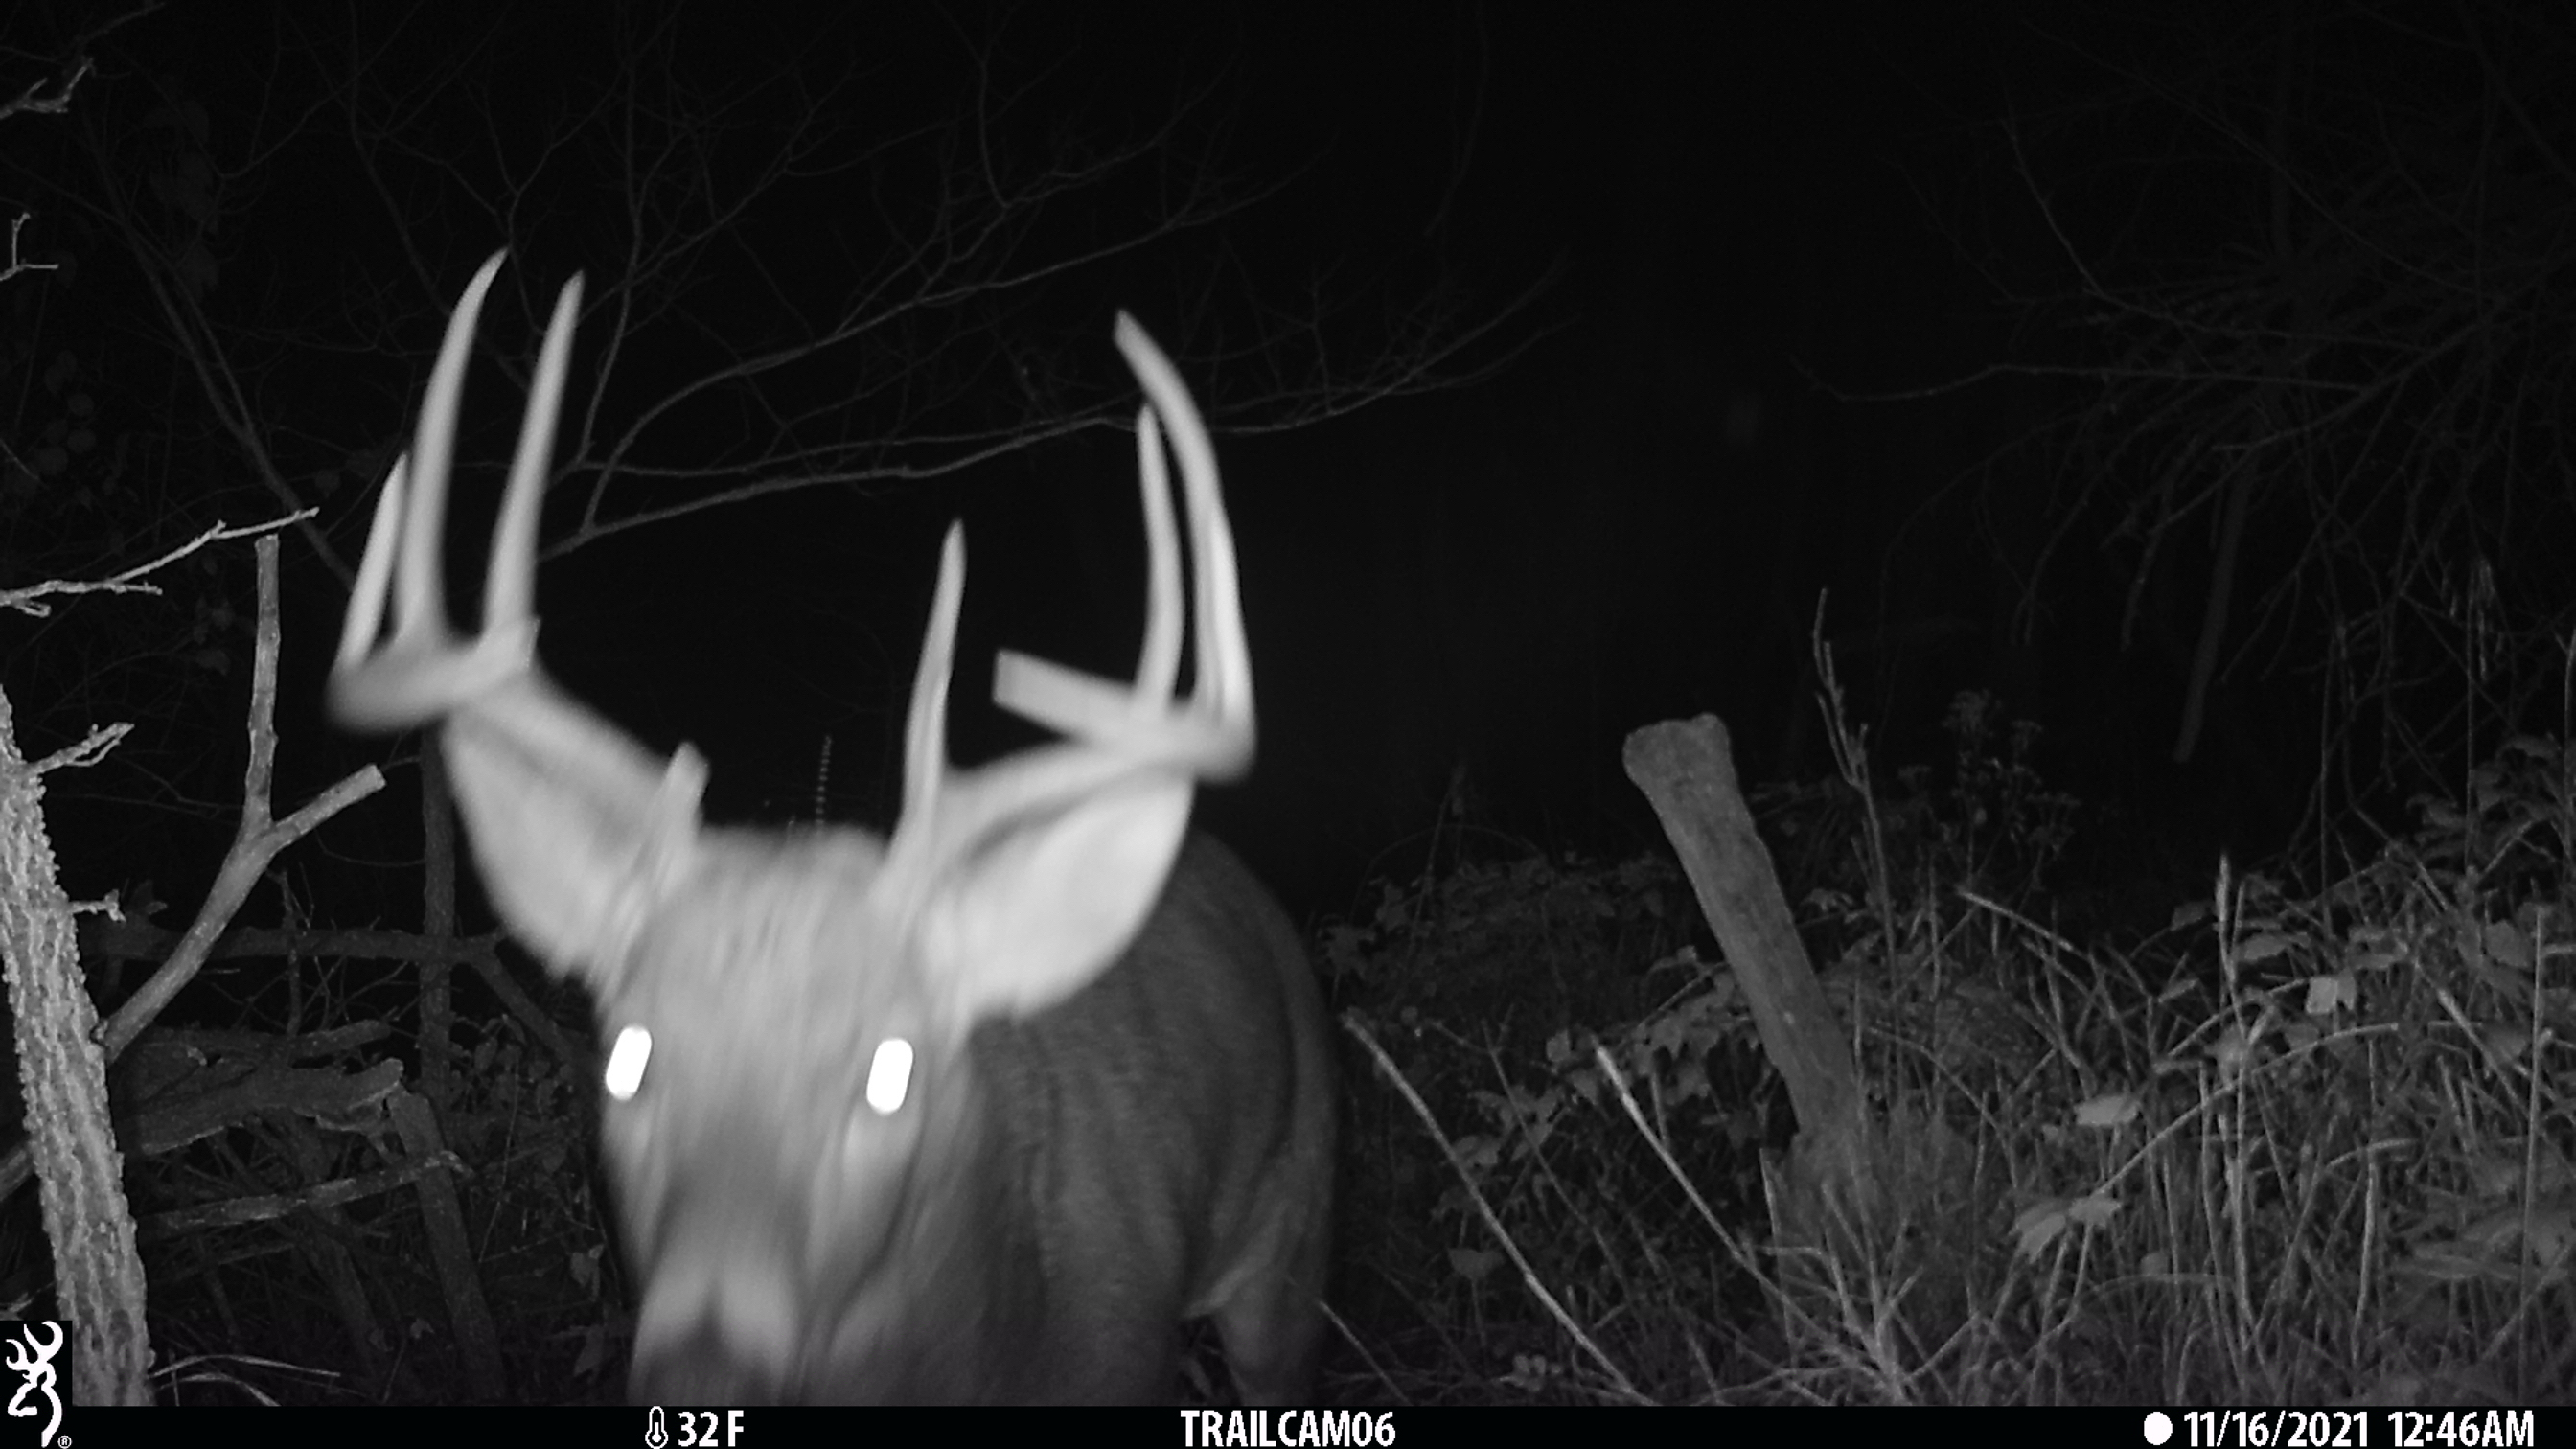DeerBuck: (320, 247, 1342, 1403)
DeerBuckHead: (318, 245, 1263, 1403)
